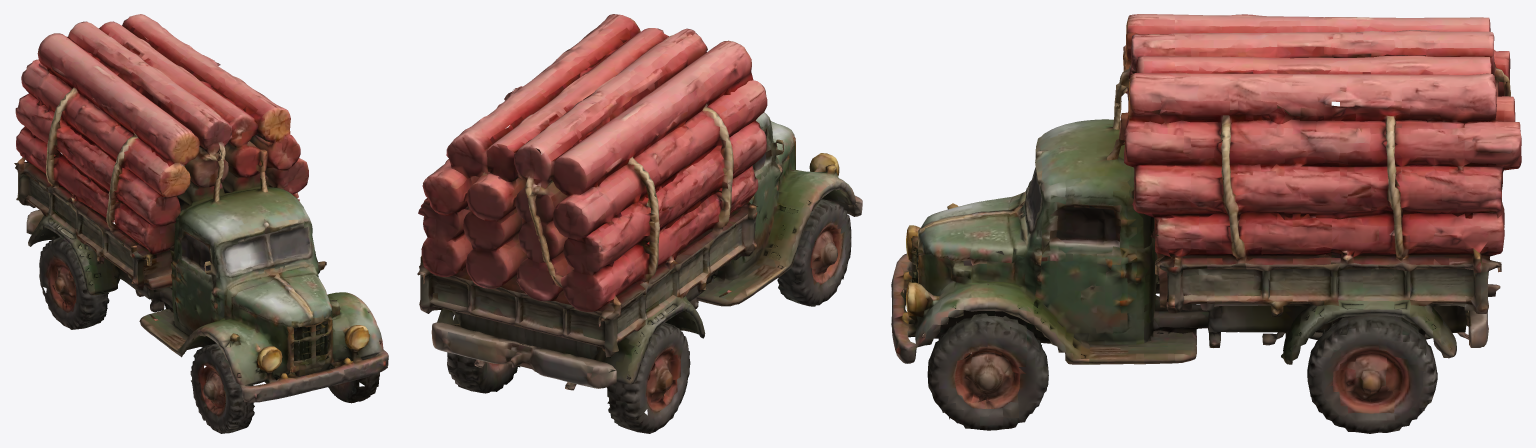
The model's file is truck.glb.
The picture shows the model from 3 angles, left to right: view 1: azimuth 30°, elevation 25°; view 2: azimuth 150°, elevation 25°; view 3: azimuth 270°, elevation 25°; orthographic projection. The views are drawn at different scales.
Visible parts, largest first — view 1: truck; view 2: truck; view 3: truck.
Part boxes in pixels (x1,y1,x2,y2): truck: (14,14,388,433); truck: (417,14,862,433); truck: (891,14,1521,433).
Bounding box in the file's own units: 0.4109 × 0.587 × 0.978.
1 material, 1 textured.
